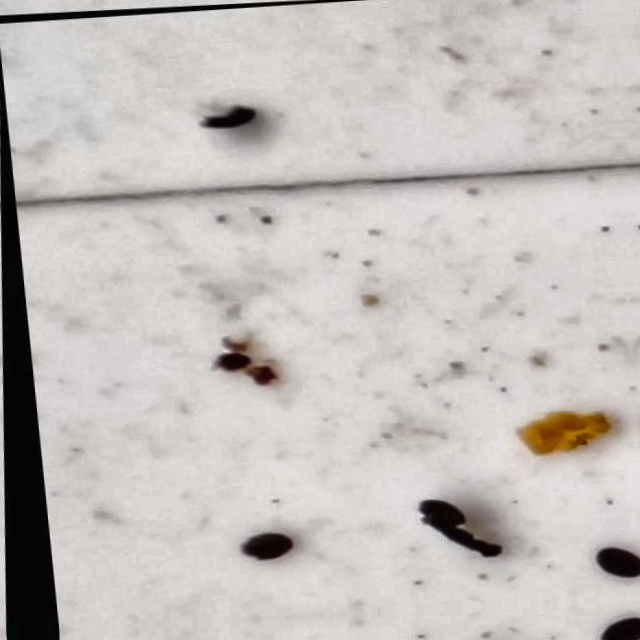varroa: (233, 529, 291, 563), (199, 105, 259, 133), (409, 498, 459, 530)
